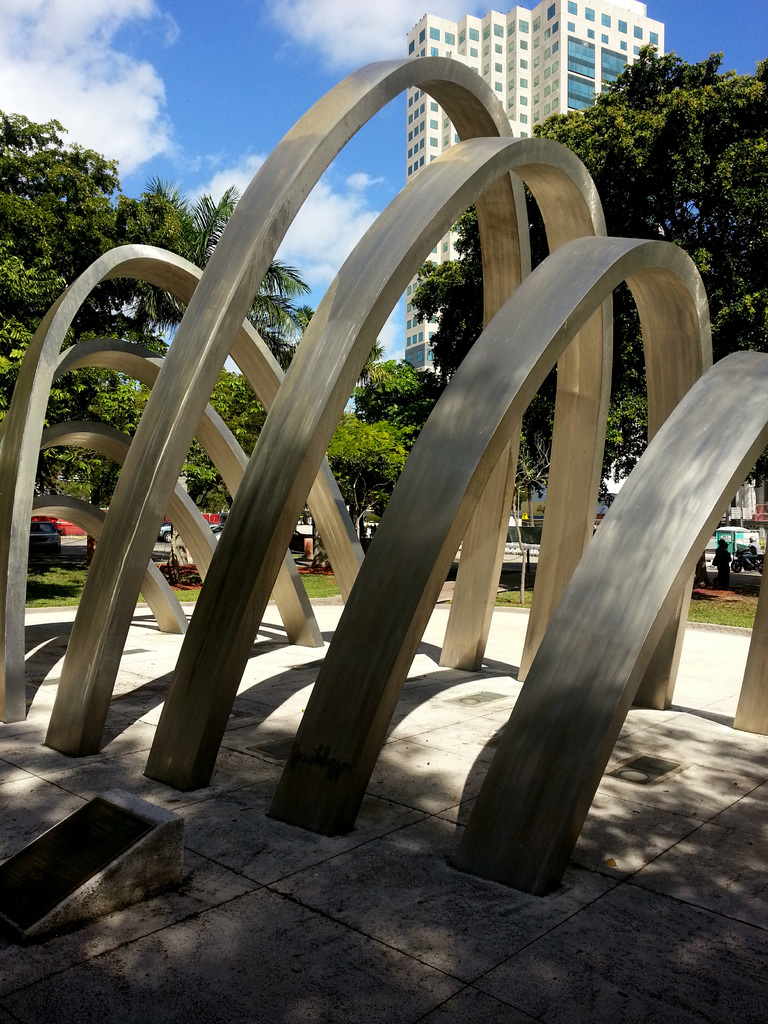Tree: (0, 111, 453, 566), (402, 42, 767, 588)
